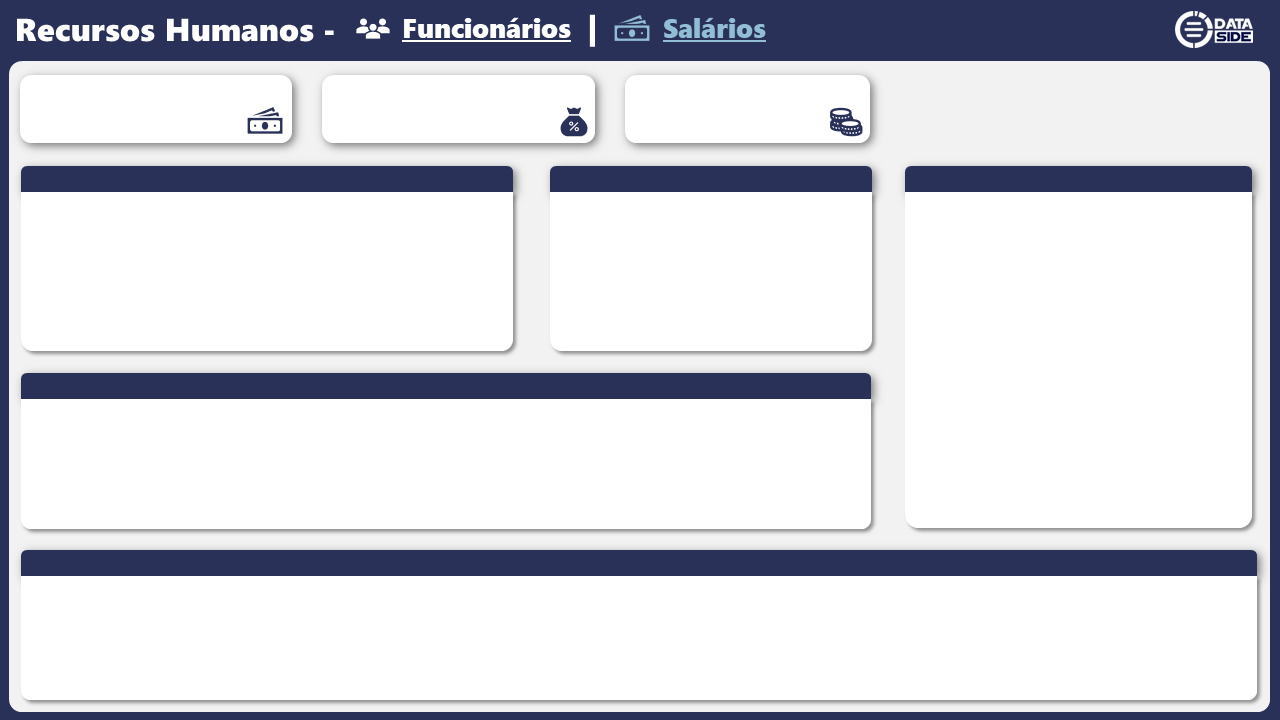

The dashboard page shown, as its layout file describes it:
{"tool":"powerbi","page":{"name":"RH - Salários","canvas":[1280,720],"ordinal":1},"visuals":[{"type":"tableEx","fields":{"Values":["Funcionarios.Cargo","Medidas.Salario Medio","Medidas.Salario Medio com Encargos"]},"box":[902,188,350,335],"z":0},{"type":"clusteredColumnChart","fields":{"Category":["Funcionarios.Setor"],"Y":["Medidas.Total Salarios"]},"box":[20,392,855,135],"z":1000},{"type":"lineChart","fields":{"Category":["Calendario.Nome do Mês"],"Y":["Medidas.Total Salarios","Medidas.Total Salarios AA"]},"box":[22,568,1235,130],"z":2000},{"type":"slicer","fields":{"Values":["Calendario.Ano"]},"box":[1100,75,140.4,60],"z":3000},{"type":"slicer","fields":{"Values":["Calendario.Nome do Mês"]},"box":[920,75,160,59.5],"z":4000},{"type":"textbox","box":[21.4,545,1240.1,29.8],"z":5000},{"type":"textbox","box":[20,368,855,30],"z":6000},{"type":"multiRowCard","fields":{"Values":["Medidas.Total Salarios"]},"box":[25,72,250,70],"z":7000},{"type":"multiRowCard","fields":{"Values":["Medidas.Salario Medio Funcionarios"]},"box":[632,72,220,70.2],"z":8000},{"type":"multiRowCard","fields":{"Values":["Medidas.Total Salarios com Encargos"]},"box":[330,72,250,70.2],"z":9000},{"type":"textbox","box":[902,162,350,29.8],"z":10000},{"type":"slicer","fields":{"Values":["Nº Funcionários.Nº Funcionários"]},"box":[25,190.4,249.9,89.3],"z":11000},{"type":"card","fields":{"Values":["Medidas.Total Simulacao Salarios"]},"box":[290,196.4,205,61.9],"z":12000},{"type":"slicer","fields":{"Values":["Funcionarios.Cargo"]},"box":[25,280,249.9,59.5],"z":13000},{"type":"card","fields":{"Values":["Medidas.Total Simulacao Salarios com Encargos"]},"box":[290,273.7,205,61.9],"z":14000},{"type":"textbox","box":[20,162,490,30],"z":15000},{"type":"donutChart","fields":{"Y":["Medidas.Total Salarios","Medidas.Total Encargos","Medidas.Total Provisoes"]},"box":[550,186.8,320,160],"z":16000},{"type":"textbox","box":[550,162,320,29.8],"z":17000},{"type":"actionButton","box":[350,2,230,50],"z":18000}]}

Visuals, with their boxes in screenshot pixels (x1, y1, x2, y2), scaled from the page's 1280x720 canvas onto the 1280x720 screenshot:
tableEx - Funcionarios.Cargo x Medidas.Salario Medio: region(902, 188, 1252, 523)
clusteredColumnChart - Funcionarios.Setor x Medidas.Total Salarios: region(20, 392, 875, 527)
lineChart - Calendario.Nome do Mês x Medidas.Total Salarios: region(22, 568, 1257, 698)
slicer - Calendario.Ano: region(1100, 75, 1240, 135)
slicer - Calendario.Nome do Mês: region(920, 75, 1080, 134)
textbox: region(21, 545, 1262, 575)
textbox: region(20, 368, 875, 398)
multiRowCard - Medidas.Total Salarios: region(25, 72, 275, 142)
multiRowCard - Medidas.Salario Medio Funcionarios: region(632, 72, 852, 142)
multiRowCard - Medidas.Total Salarios com Encargos: region(330, 72, 580, 142)
textbox: region(902, 162, 1252, 192)
slicer - Nº Funcionários.Nº Funcionários: region(25, 190, 275, 280)
card - Medidas.Total Simulacao Salarios: region(290, 196, 495, 258)
slicer - Funcionarios.Cargo: region(25, 280, 275, 340)
card - Medidas.Total Simulacao Salarios com Encargos: region(290, 274, 495, 336)
textbox: region(20, 162, 510, 192)
donutChart - Medidas.Total Salarios x Medidas.Total Encargos: region(550, 187, 870, 347)
textbox: region(550, 162, 870, 192)
actionButton: region(350, 2, 580, 52)
